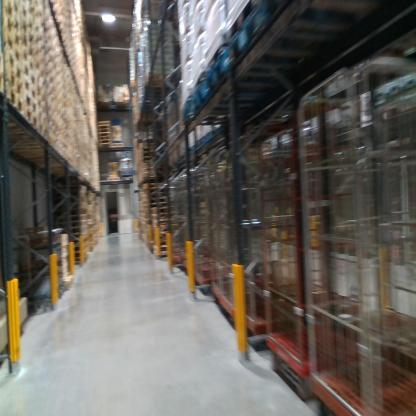pallet: (229, 13, 399, 95), (181, 78, 299, 109), (201, 47, 229, 101)
